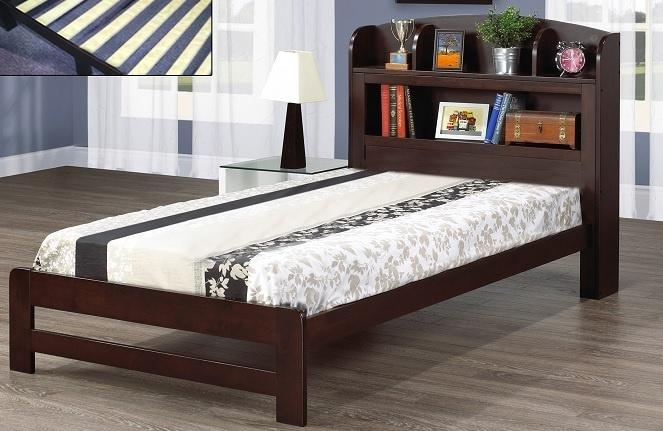bed: (5, 23, 640, 431)
light: (257, 48, 331, 174)
table: (219, 149, 344, 194)
